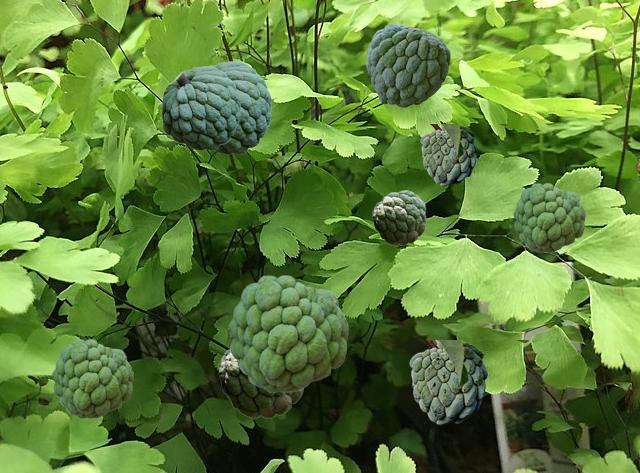atis: (228, 275, 347, 391), (409, 340, 528, 424), (366, 23, 449, 106), (162, 66, 239, 149), (52, 339, 132, 417), (218, 348, 304, 417), (211, 61, 270, 153), (420, 124, 507, 185), (513, 183, 584, 251), (372, 190, 425, 244)
